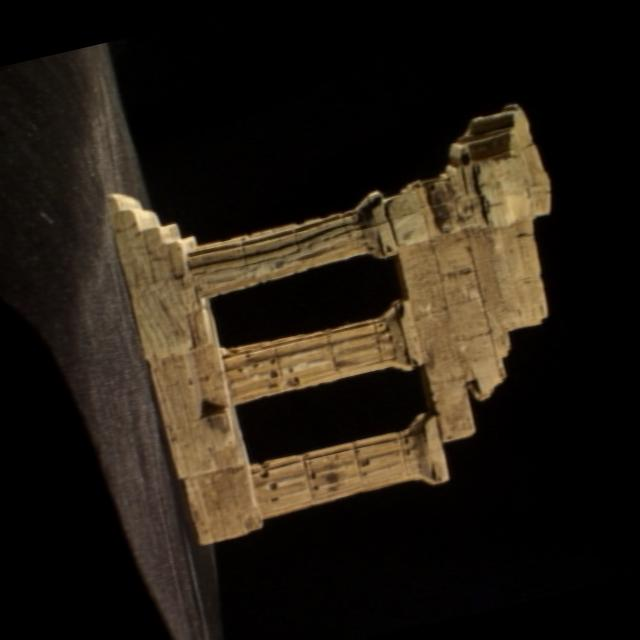Instance-Segmentation: (105, 104, 548, 542)
